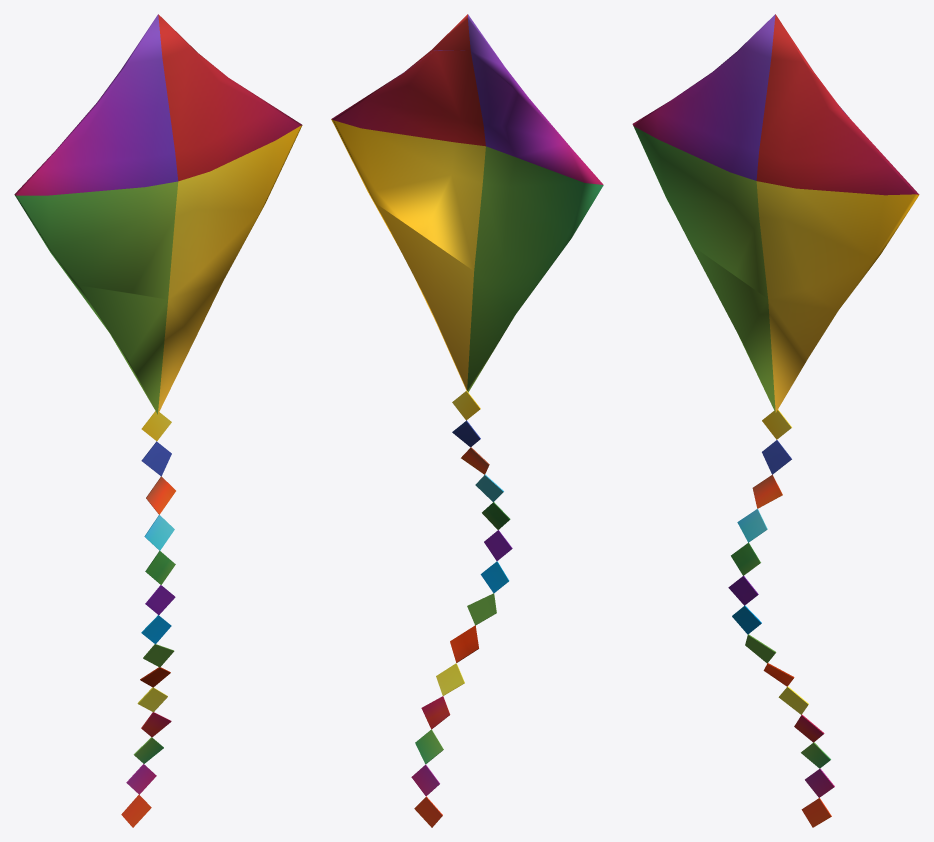
The model's file is Pipa.fbx.
3 renders of one model, left to right at view 1: azimuth 30°, elevation 25°; view 2: azimuth 150°, elevation 25°; view 3: azimuth 330°, elevation 25°, orthographic. The views are drawn at different scales.
Parts seen in each view (by area): view 1: Plane, Plane.002; view 2: Plane, Plane.002; view 3: Plane, Plane.002.
Part boxes in pixels (x1=…): Plane: x1=14, y1=14, x2=302, y2=414; Plane.002: x1=121, y1=411, x2=175, y2=827; Plane: x1=331, y1=14, x2=603, y2=392; Plane.002: x1=411, y1=390, x2=512, y2=827; Plane: x1=632, y1=14, x2=919, y2=412; Plane.002: x1=728, y1=409, x2=834, y2=827.
Size of the model in its own units: 147 by 410 by 45.52.
